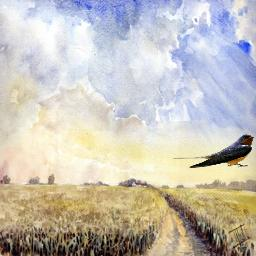Swallow: (173, 133, 255, 168)
